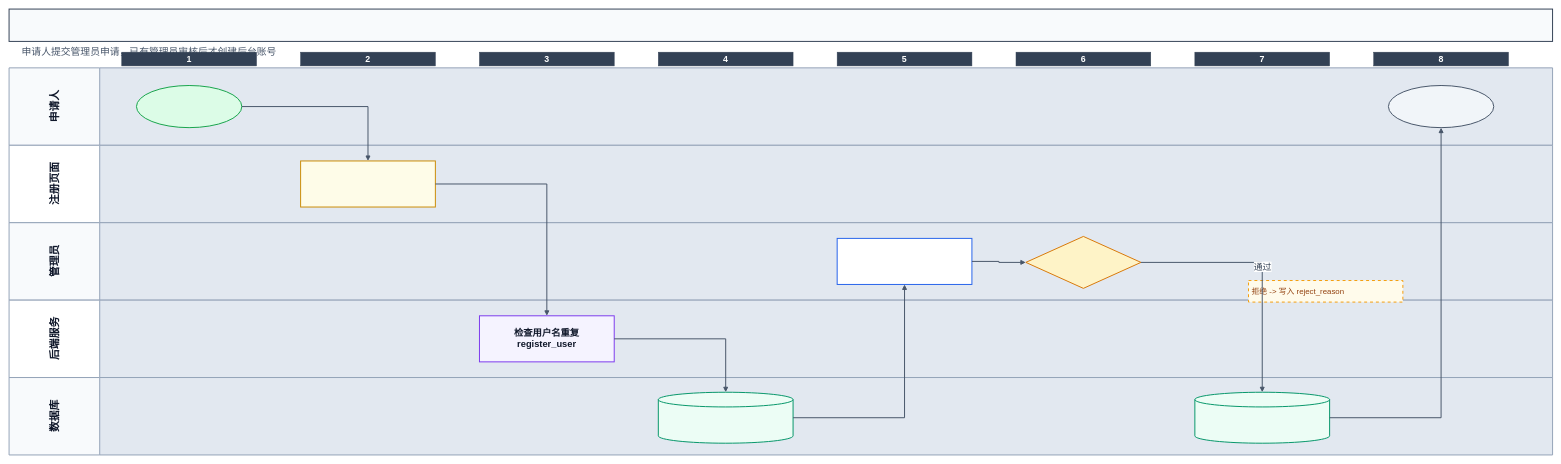
Some shapes in this 1561 by 464 pixel diagram are drawn without their labels. The centre of each missing label's shape, as x and y in pixels:
"保存待审申请 admin_signup_requests" goes at pixel 725 417.
"前端校验 确认密码一致" goes at pixel 368 183.
"审核决定 通过/拒绝" goes at pixel 1083 262.
"提交管理员申请 用户名/密码" goes at pixel 189 106.
"收到结果 登录或重新申请" goes at pixel 1441 106.
"查看申请列表 /admin-register-requests" goes at pixel 904 261.
"管理员注册审核泳道图" goes at pixel 780 25.
"通过: 创建用户 users.role=admin" goes at pixel 1262 417.
